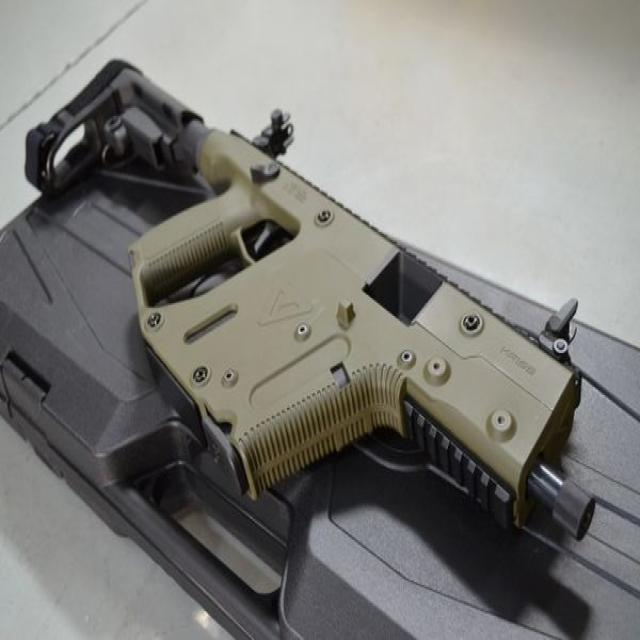SMG: (25, 61, 593, 548)
